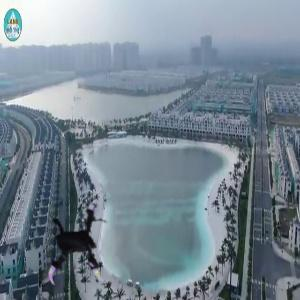drone: (28, 193, 131, 296)
